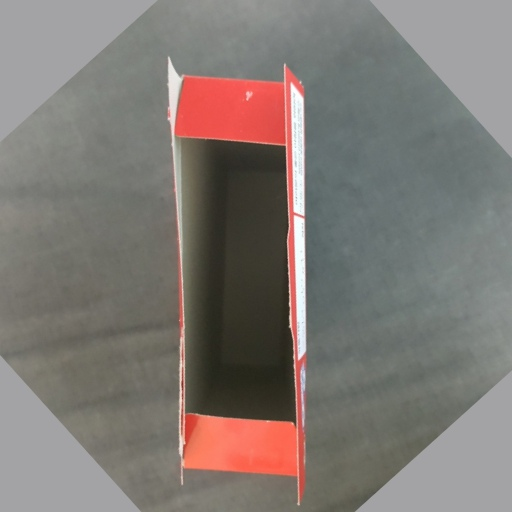Paper_0: (157, 48, 338, 512)
